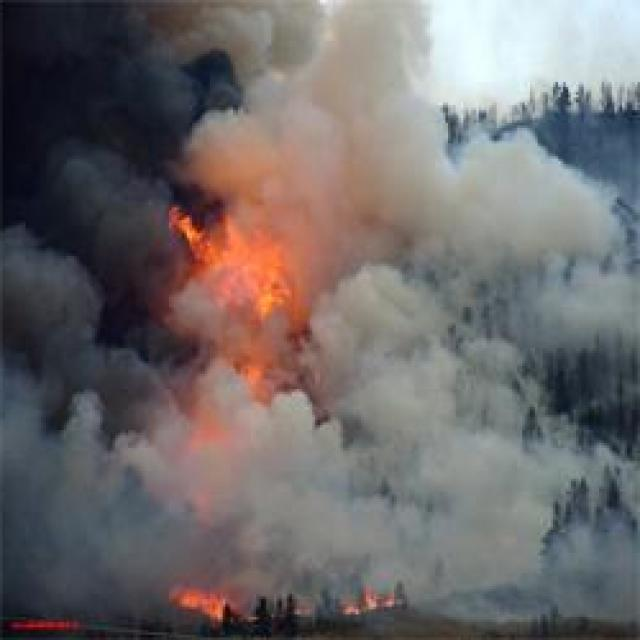fire: (210, 220, 294, 318)
smoke: (307, 123, 584, 405), (0, 354, 321, 579), (2, 0, 246, 202), (169, 2, 443, 112)
